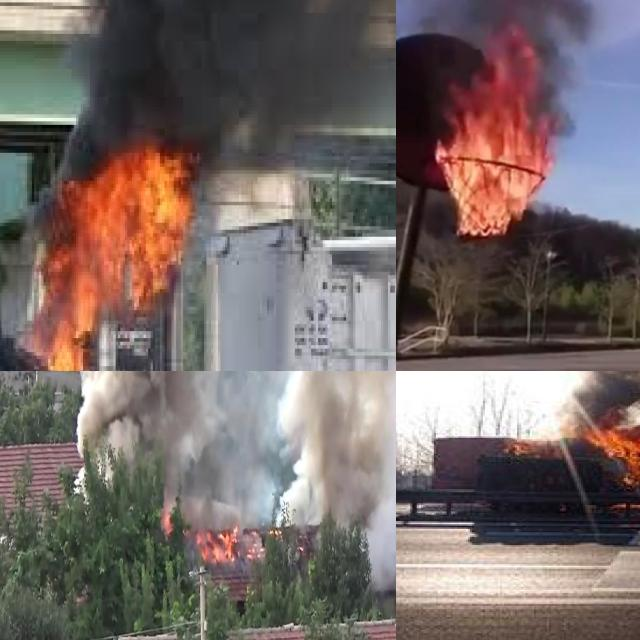fire: (22, 145, 201, 371), (433, 29, 562, 237), (583, 396, 640, 495), (193, 521, 278, 569), (160, 502, 174, 534)
smoke: (52, 0, 396, 174), (70, 371, 396, 511), (282, 371, 396, 568), (415, 0, 590, 37)
